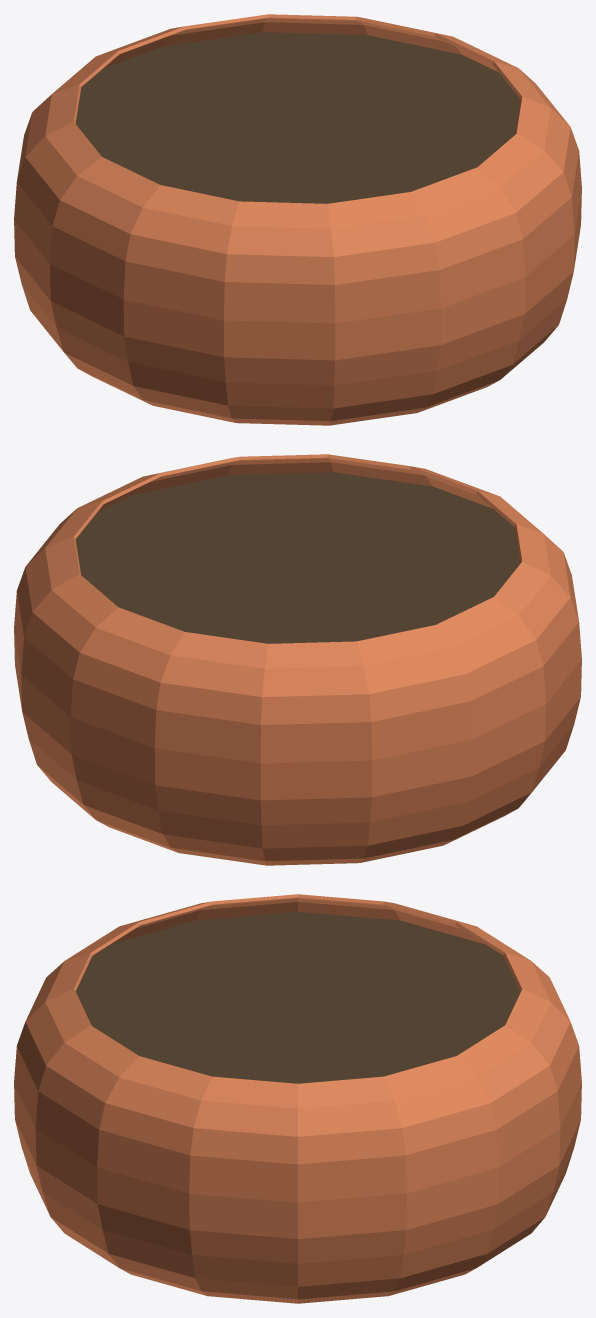
Rendered from pot_2.fbx.
3 renders of one model, top to bottom at view 1: azimuth 30°, elevation 25°; view 2: azimuth 150°, elevation 25°; view 3: azimuth 270°, elevation 25°, orthographic.
Parts seen in each view (by area): view 1: pot; view 2: pot; view 3: pot.
Boxes of the visible parts, x1=… form: pot: x1=14, y1=14, x2=581, y2=425; pot: x1=14, y1=454, x2=581, y2=865; pot: x1=14, y1=894, x2=581, y2=1303.
Size of the model in its own units: 804 by 343 by 804.
